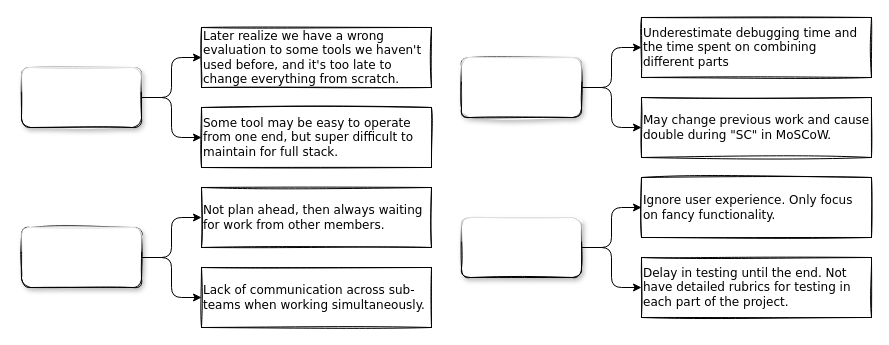
The diagram is 889 pixels wide and 345 high, and some of its shapes have lost their labels. The centre of each missing label's shape, as x and y in pixels:
Difficulty of technical tools: (x=82, y=98)
Integration: (x=522, y=88)
Priority of work: (x=82, y=258)
Testing: (x=522, y=248)
